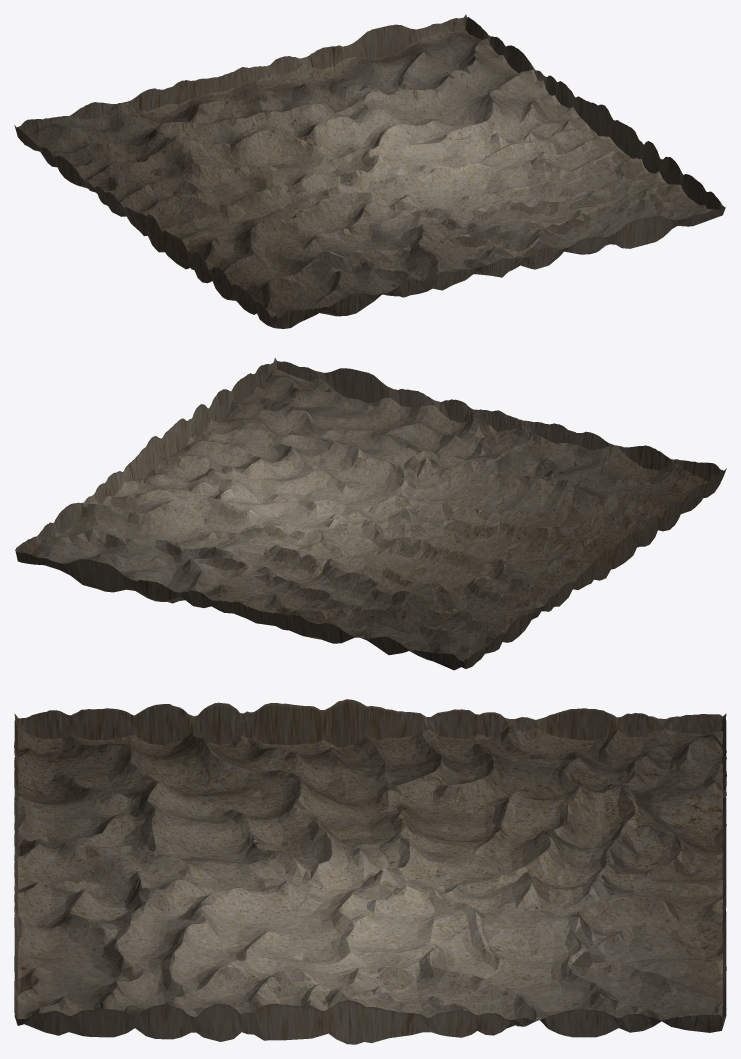
The model's file is heightmap.fbx.
3 renders of one model, top to bottom at view 1: azimuth 30°, elevation 25°; view 2: azimuth 150°, elevation 25°; view 3: azimuth 270°, elevation 25°, orthographic. The views are drawn at different scales.
Visible parts, largest first — view 1: Plane; view 2: Plane; view 3: Plane.
Boxes of the visible parts, left/top/right/bottom form: Plane: left=14, top=14, right=725, bottom=328; Plane: left=15, top=358, right=726, bottom=670; Plane: left=14, top=699, right=726, bottom=1044.
Bounding box in the file's own units: 940 × 941 × 75.19.
